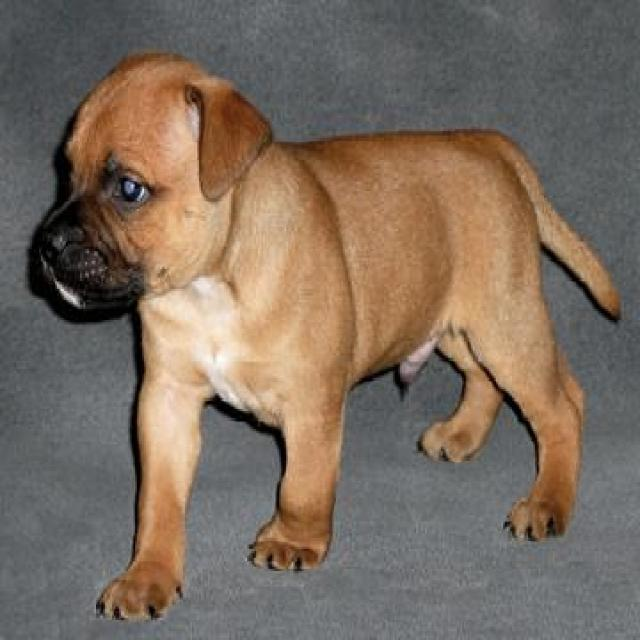staffordshire_bullterrier: (34, 49, 618, 618)
